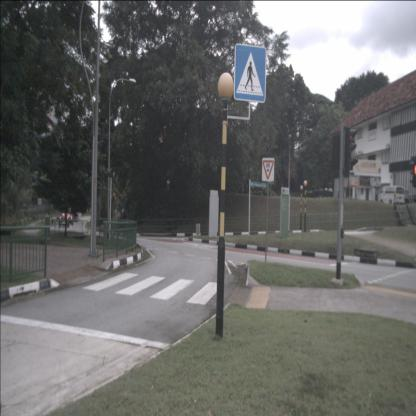vehicle-car: (376, 185, 406, 208), (59, 211, 69, 229), (65, 212, 73, 223)
